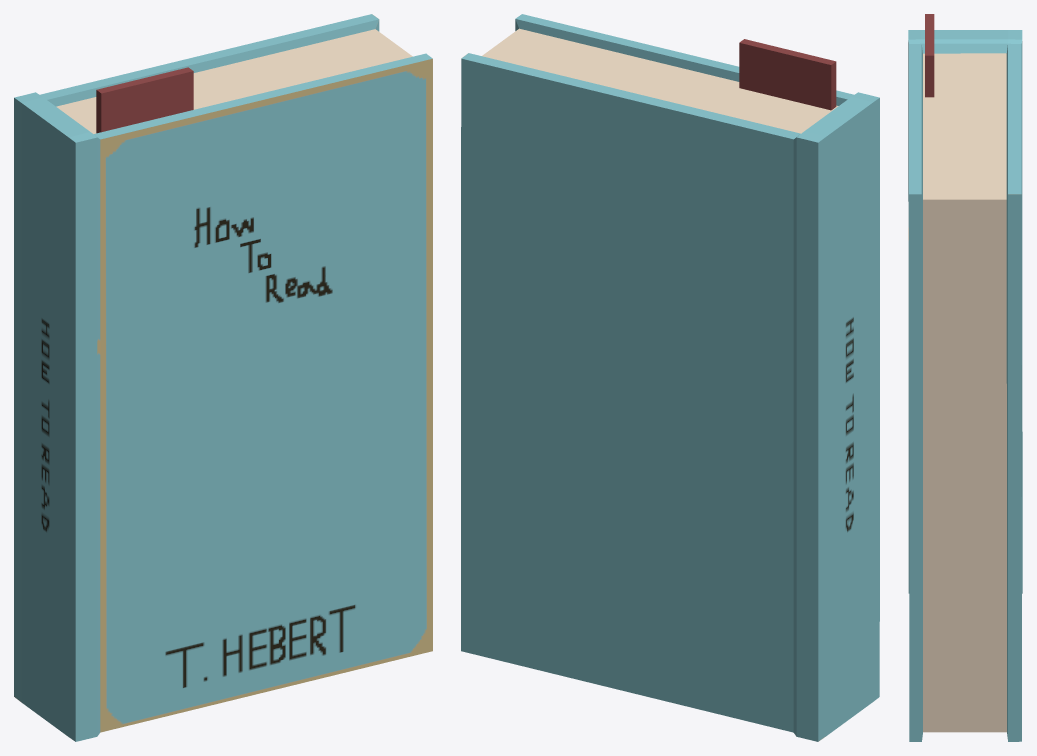
File: howtoread.fbx
3 views of the same model, side by side, from view 1: azimuth 30°, elevation 25°; view 2: azimuth 150°, elevation 25°; view 3: azimuth 270°, elevation 25° (orthographic). The views are drawn at different scales.
Visible parts, largest first — view 1: Cube.010; view 2: Cube.010; view 3: Cube.010.
Part boxes in pixels (x1=…): Cube.010: x1=14, y1=14, x2=432, y2=741; Cube.010: x1=461, y1=14, x2=879, y2=741; Cube.010: x1=908, y1=14, x2=1022, y2=741.
Size of the model in its own units: 22.92 by 38.83 by 6.85.
